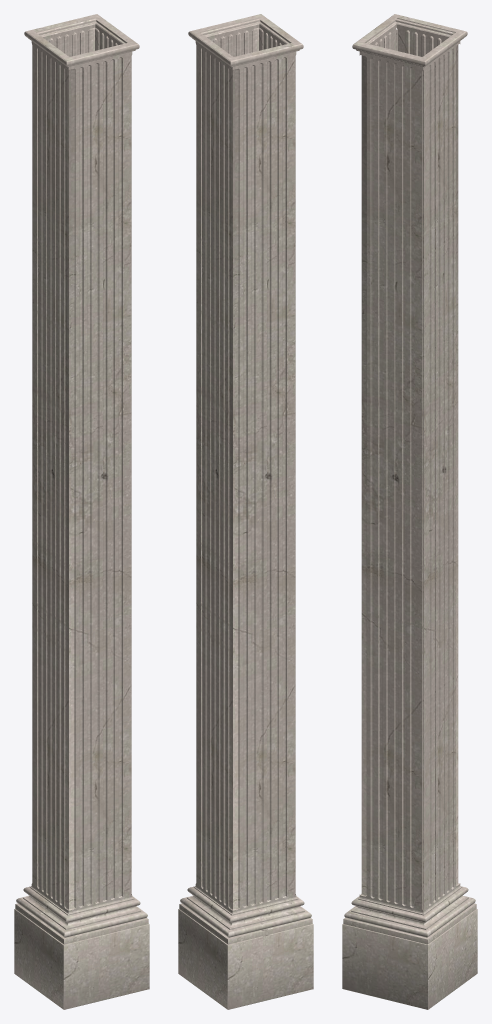
Rendered from marble_tile_191.fbx.
3 renders of one model, left to right at view 1: azimuth 30°, elevation 25°; view 2: azimuth 210°, elevation 25°; view 3: azimuth 330°, elevation 25°, orthographic.
Parts seen in each view (by area): view 1: marble_tile_191; view 2: marble_tile_191; view 3: marble_tile_191.
Part boxes in pixels (<box>): marble_tile_191: <box>14,14,149,1009</box>; marble_tile_191: <box>178,14,313,1009</box>; marble_tile_191: <box>342,14,477,1009</box>.
Bounding box in the file's own units: 33.99 × 357 × 33.99.
